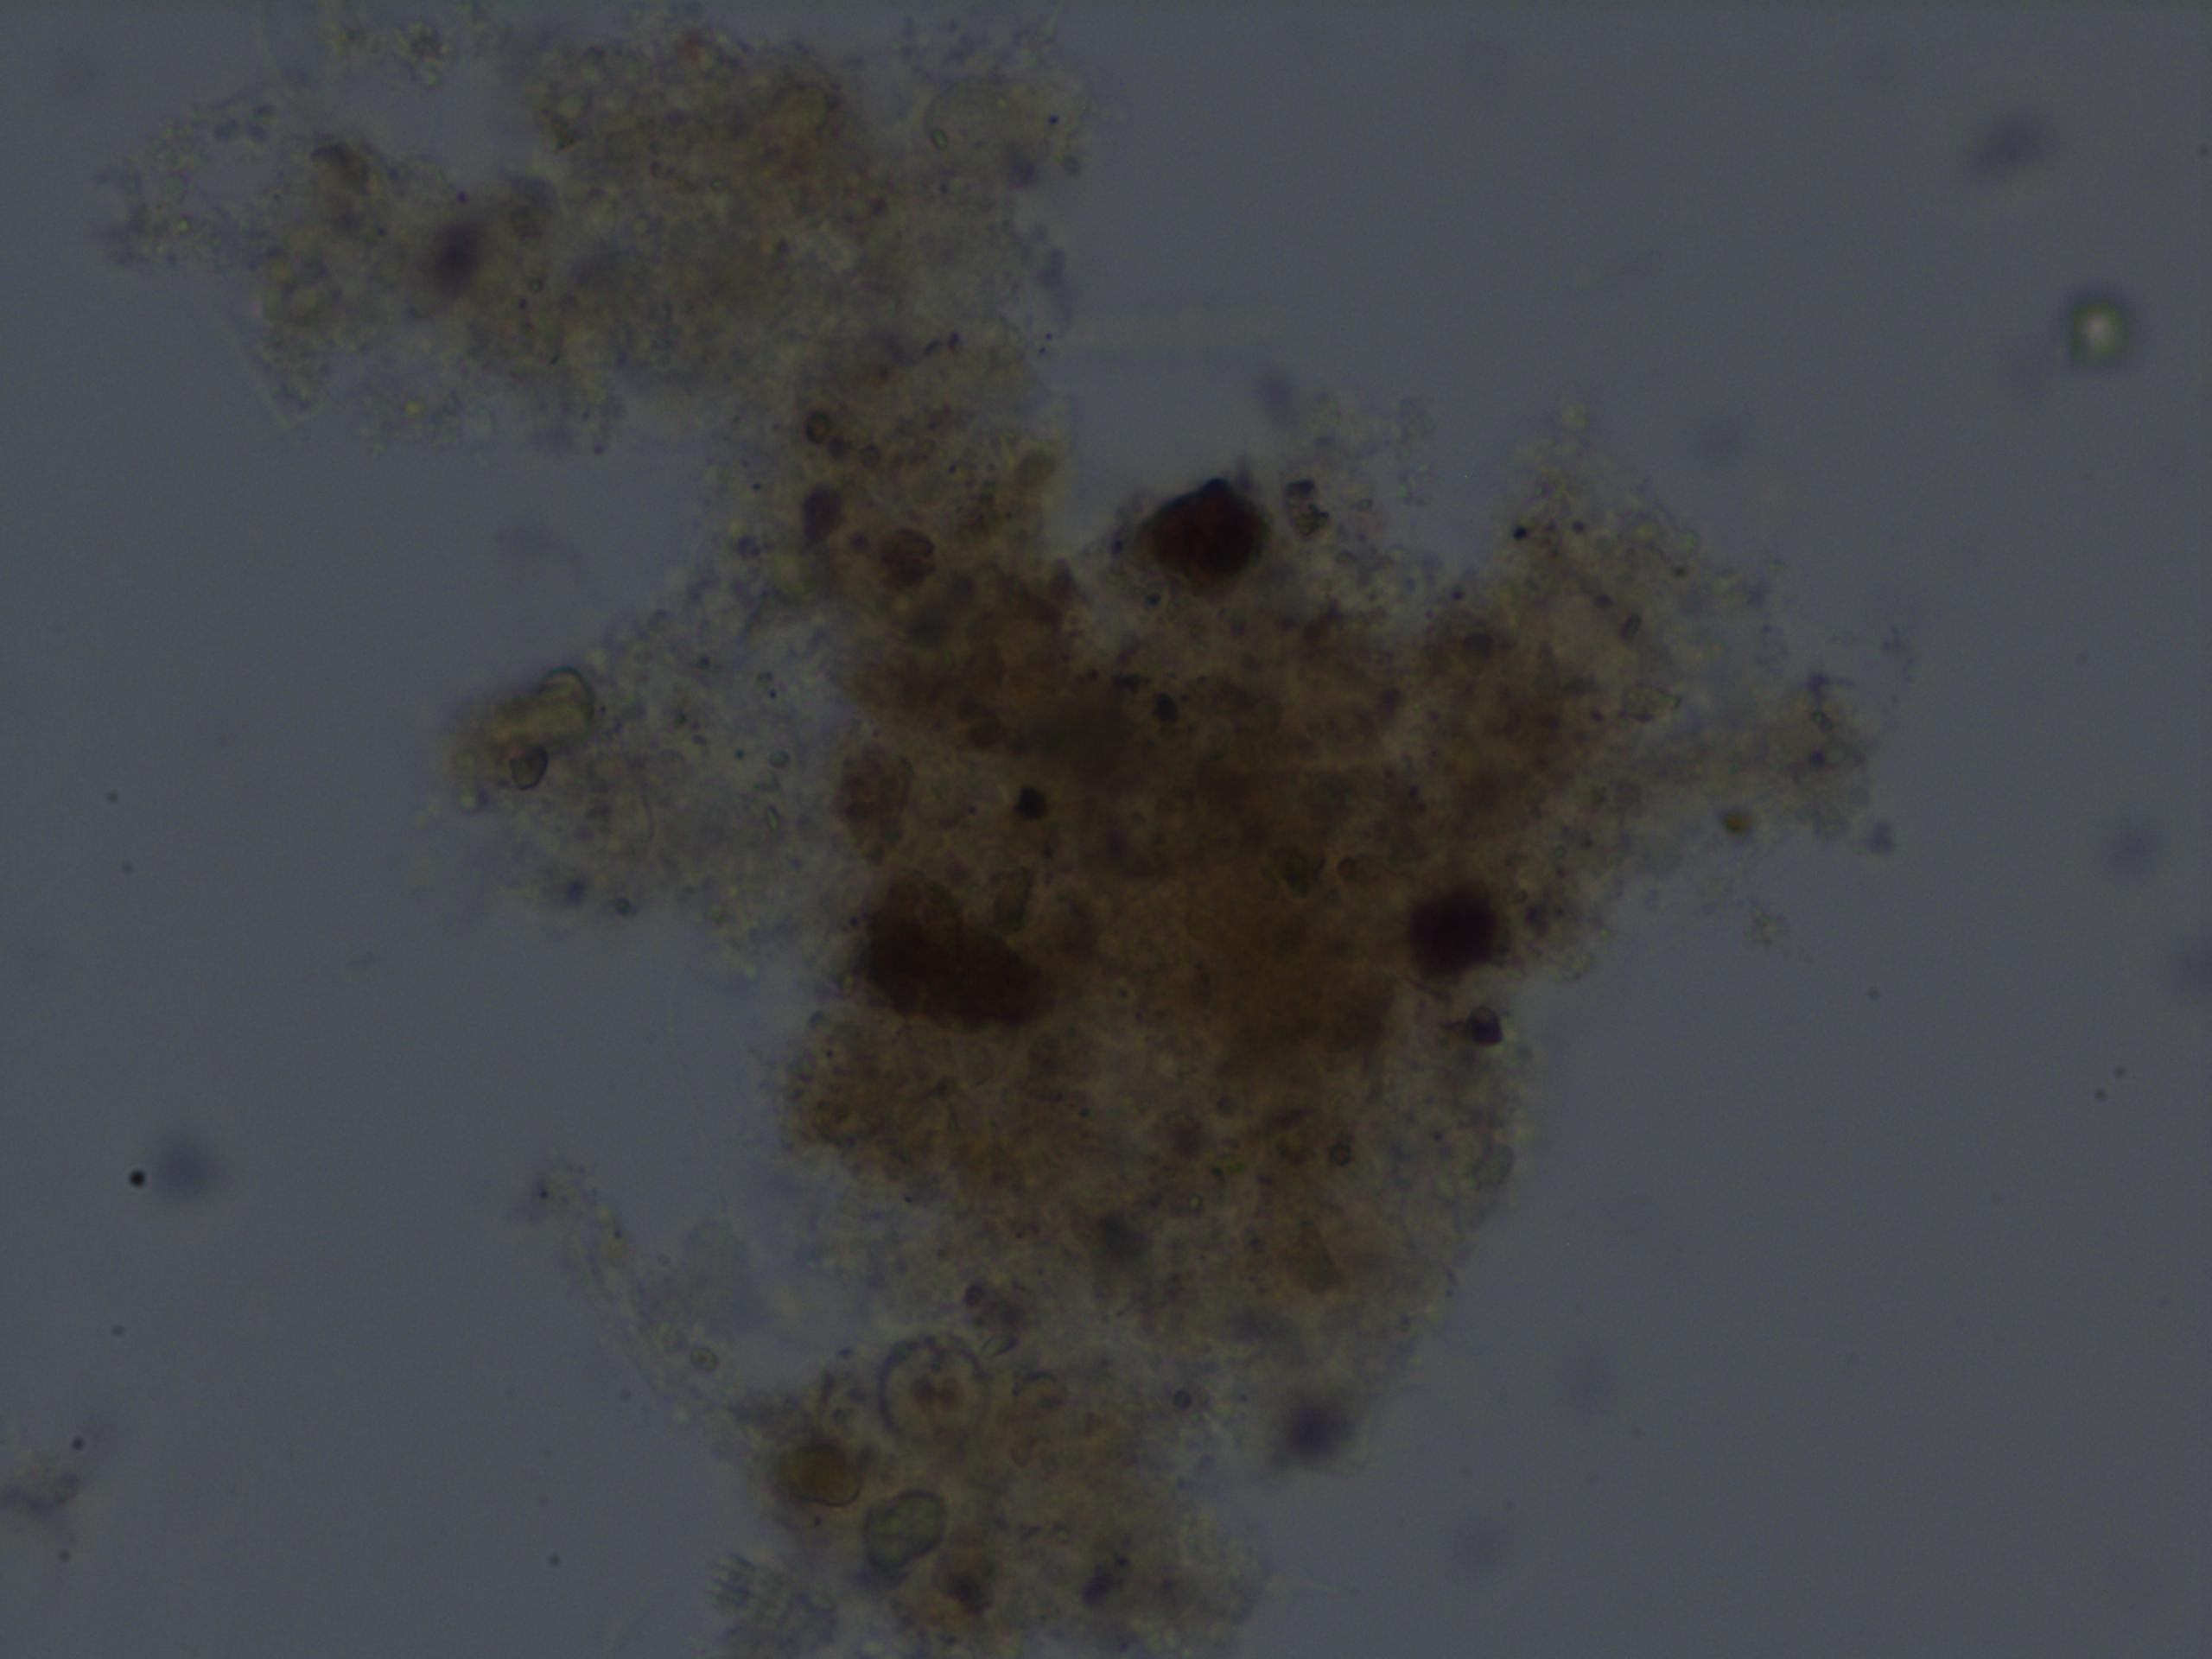open_floc: (105, 0, 1897, 1659)
